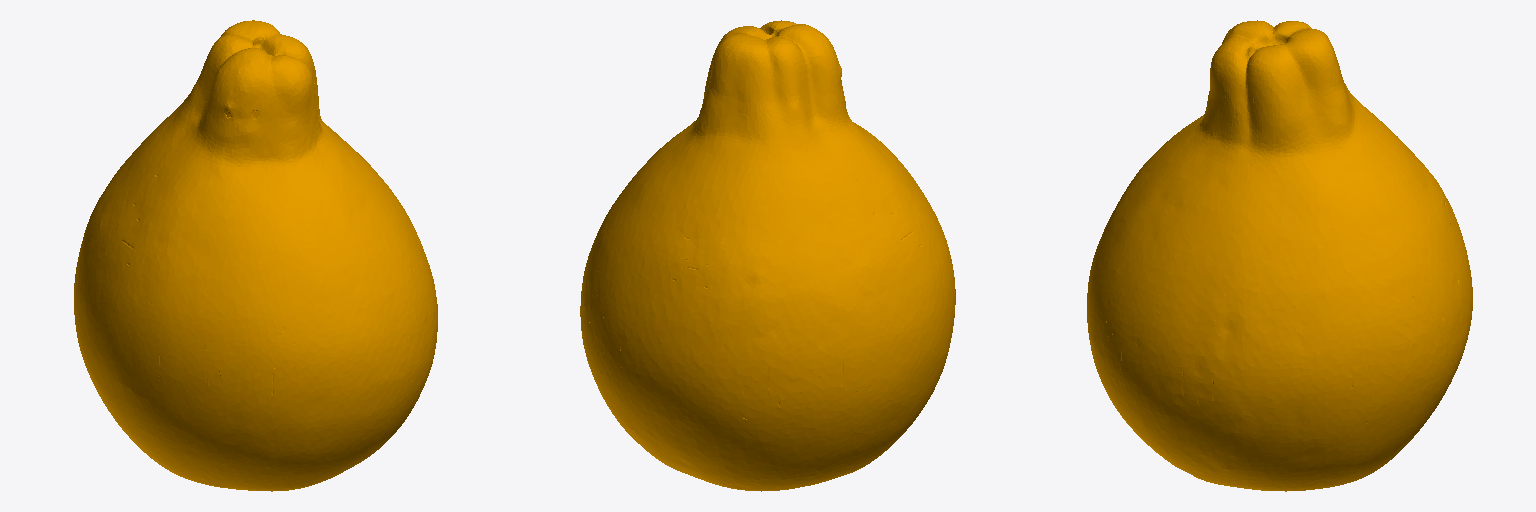
robot.urdf — sample:
<?xml version="1.0" ?>
<robot name="sample">
   <link name="sample">
      <visual>
         <origin xyz="0 0 0" rpy="1.5708 0.0 0.0"/>
         <geometry>
            <mesh filename="mesh/sample.obj" scale="1.0 1.0 1.0"/>
         </geometry>
      </visual>
      <collision>
         <origin xyz="0 0 0" rpy="1.5708 0.0 0.0"/>
         <geometry>
            <mesh filename="mesh/sample_collision.obj" scale="1.0 1.0 1.0"/>
         </geometry>
         <gazebo>
            <mu1>0.40</mu1>
            <mu2>0.30</mu2>
         </gazebo>
      </collision>
      <inertial>
         <mass value="0.2000"/>
         <origin xyz="0 0 0"/>
         <inertia ixx="1.0" ixy="0.0" ixz="0.0" iyy="1.0" iyz="0.0" izz="1.0"/>
      </inertial>
      <extra_info>
         <scale>0.090000</scale>
         <version>v0.1.7</version>
         <category>orange</category>
         <description>round citrus fruit with textured peel and stem</description>
         <min_height>0.08</min_height>
         <max_height>0.1</max_height>
         <real_height>0.09</real_height>
         <min_mass>0.15</min_mass>
         <max_mass>0.25</max_mass>
         <color>orange</color>
         <rgba>[1.0, 0.6, 0.0, 1.0]</rgba>
         <generate_time>20260526151629</generate_time>
         <gs_model>mesh/sample_gs.ply</gs_model>
      </extra_info>
   </link>
   <custom_data>
      <quality>
         <MeshGeoChecker>YES</MeshGeoChecker>
         <ImageSegChecker>NO, stem missing and background artifacts present.</ImageSegChecker>
         <ImageAestheticChecker>4.387880802154541</ImageAestheticChecker>
         <overall>NO</overall>
      </quality>
   </custom_data>
</robot>

--- Render facts (derived) ---
3 views of the same robot in one strip: view 1: azimuth 30°, elevation 25°; view 2: azimuth 150°, elevation 25°; view 3: azimuth 270°, elevation 25° (orthographic).
Model sample with 1 links and 0 joints (none), rooted at sample, posed every joint at zero.
Visible links, largest first — view 1: sample; view 2: sample; view 3: sample.
Boxes of the visible links, bbox=[...] form: sample: bbox=[74, 20, 437, 491]; sample: bbox=[580, 20, 955, 491]; sample: bbox=[1087, 20, 1472, 491].
Bounding box of the posed robot: 0.0701 × 0.073 × 0.09 m (x, y, z).
1 mesh visuals loaded from 1 distinct referenced files (1 OBJ).
